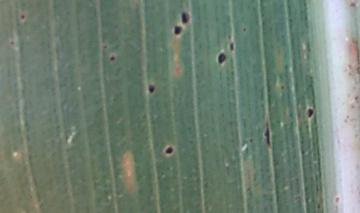tarspot: (261, 118, 275, 152), (213, 50, 229, 67), (178, 8, 193, 24), (144, 81, 158, 97), (162, 142, 176, 158), (304, 103, 316, 121), (171, 23, 184, 37), (225, 41, 236, 53), (239, 24, 250, 35), (313, 200, 324, 210), (19, 11, 28, 23), (277, 82, 287, 92), (100, 41, 109, 52), (299, 147, 308, 158), (332, 193, 341, 204), (7, 38, 17, 47), (107, 53, 117, 62), (224, 31, 234, 39)
